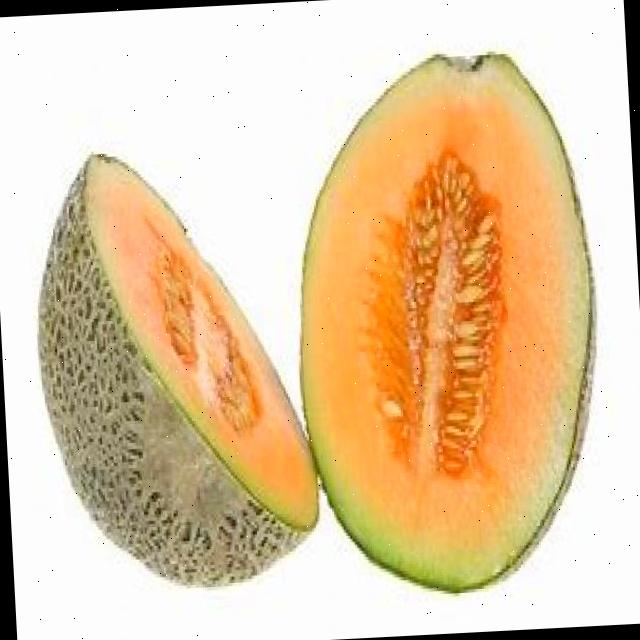Hami Melon: (282, 45, 606, 598), (28, 142, 321, 593)
